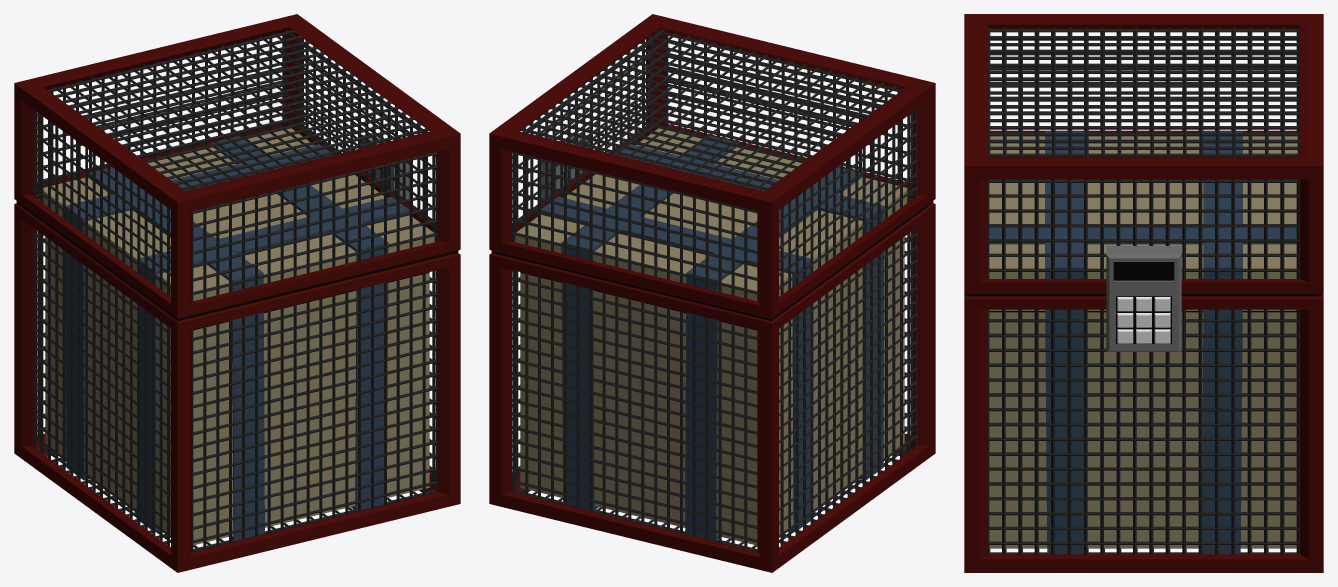
File: lockedCrate.fbx
3 renders of one model, left to right at view 1: azimuth 30°, elevation 25°; view 2: azimuth 150°, elevation 25°; view 3: azimuth 270°, elevation 25°, orthographic. The views are drawn at different scales.
Parts seen in each view (by area): view 1: Plane.002; view 2: Plane.002; view 3: Plane.002.
Part boxes in pixels (box(x1,y1,x2,y2)): Plane.002: box(14, 14, 460, 572); Plane.002: box(489, 14, 935, 572); Plane.002: box(964, 14, 1323, 572).
Size of the model in its own units: 212 by 250 by 200.
